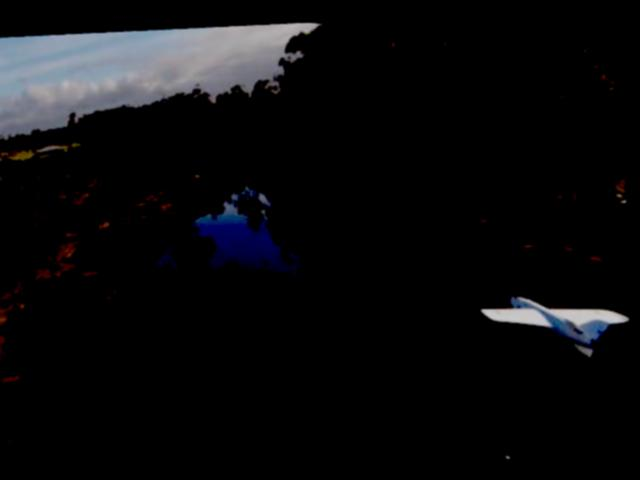uav: (476, 264, 633, 362)
